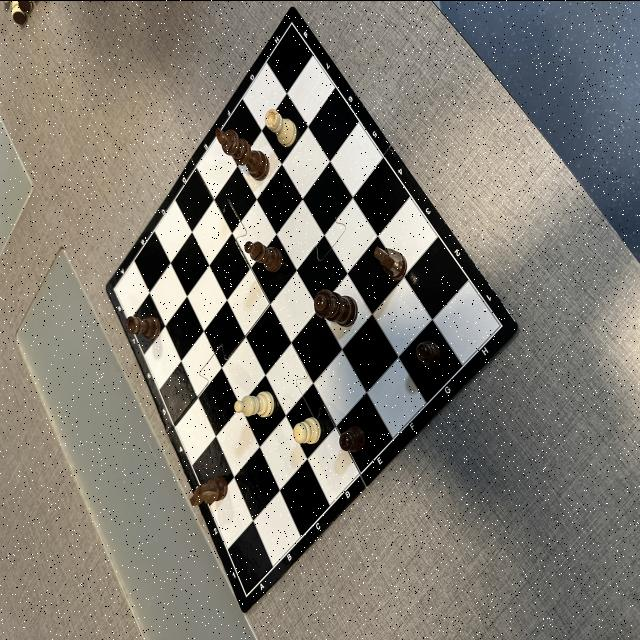Black-Bishop: (245, 240, 282, 272)
Black-King: (216, 126, 270, 180)
Black-Knight: (190, 475, 228, 505), (374, 246, 408, 278)
Black-Pawn: (339, 425, 365, 451), (416, 340, 442, 366)
Black-Queen: (314, 288, 358, 326)
Black-Rook: (126, 314, 161, 338)
White-Bishop: (234, 392, 274, 416)
White-Pawn: (294, 416, 322, 444)
White-Rook: (266, 108, 298, 146)
